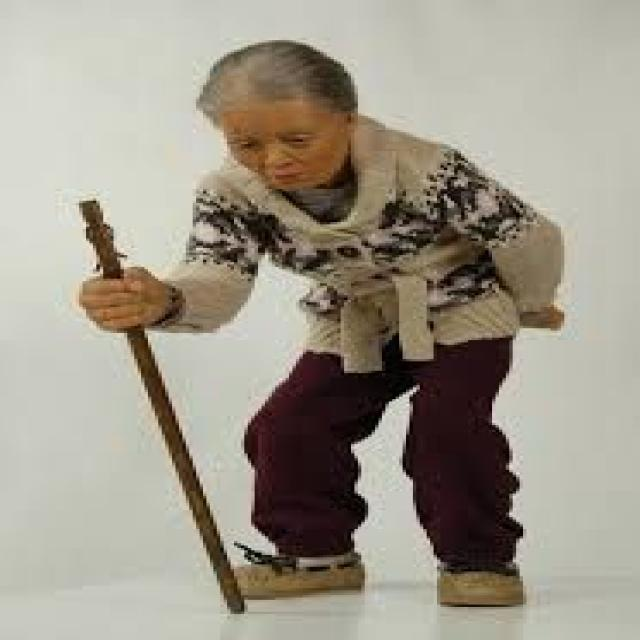idoso em pe: (79, 42, 557, 616)
